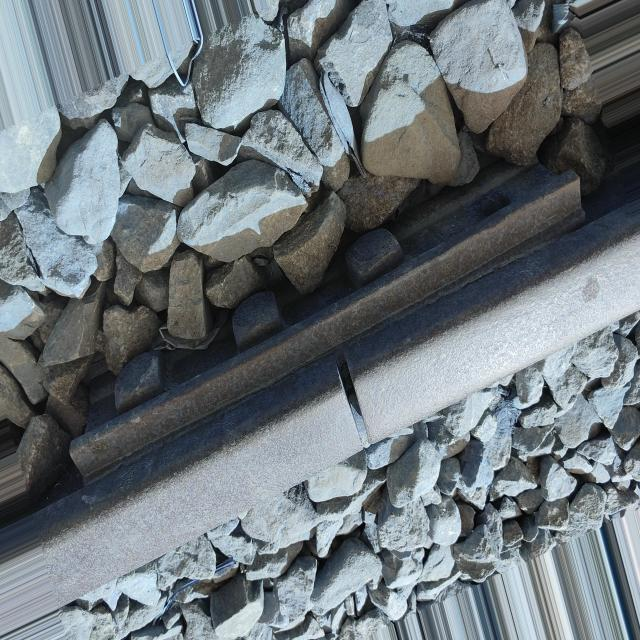Defective Joint: (70, 162, 622, 484)
